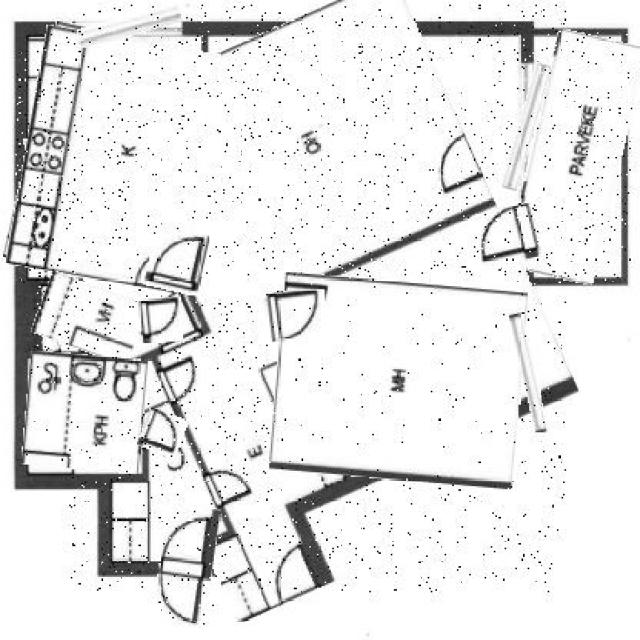door: (157, 505, 215, 626), (476, 204, 542, 264), (146, 228, 206, 292), (268, 292, 328, 342), (140, 411, 186, 457), (137, 298, 183, 342)
window: (511, 63, 542, 192), (77, 10, 181, 42), (517, 312, 541, 434)
zone: (68, 5, 566, 592), (272, 278, 525, 484), (16, 28, 212, 288), (15, 32, 211, 286), (518, 32, 632, 282), (24, 354, 144, 471), (34, 278, 144, 358)
